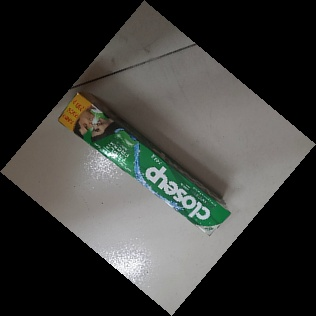CloseUp Xanh: (57, 92, 230, 239)
